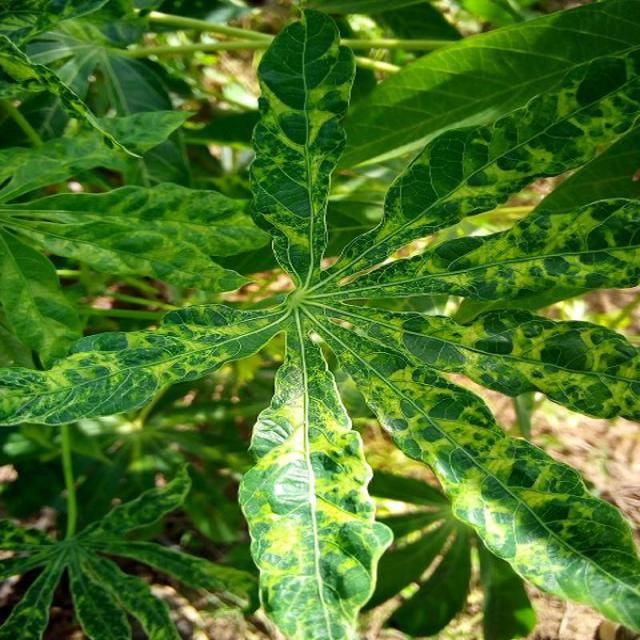cassava leaf: (0, 1, 638, 637), (236, 327, 394, 638)
